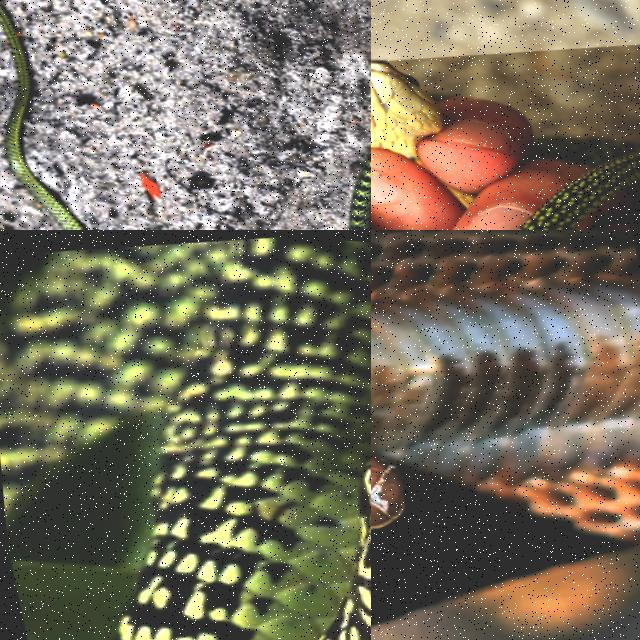Chrysopelea ornata: (0, 237, 370, 639), (0, 2, 85, 229), (524, 138, 639, 229)
Ophiophagus hannah: (371, 230, 639, 639)
